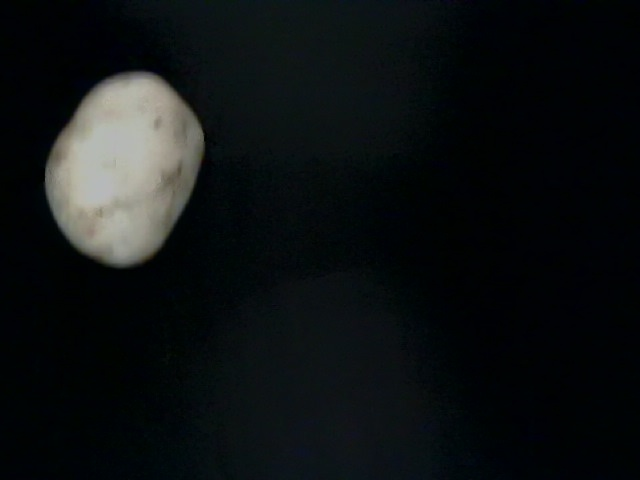QTLJ: (15, 89, 197, 364)
